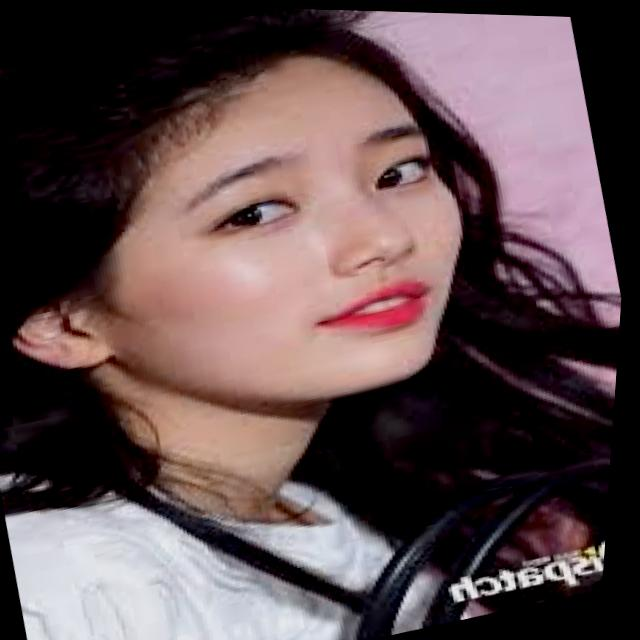face: (0, 0, 526, 483)
